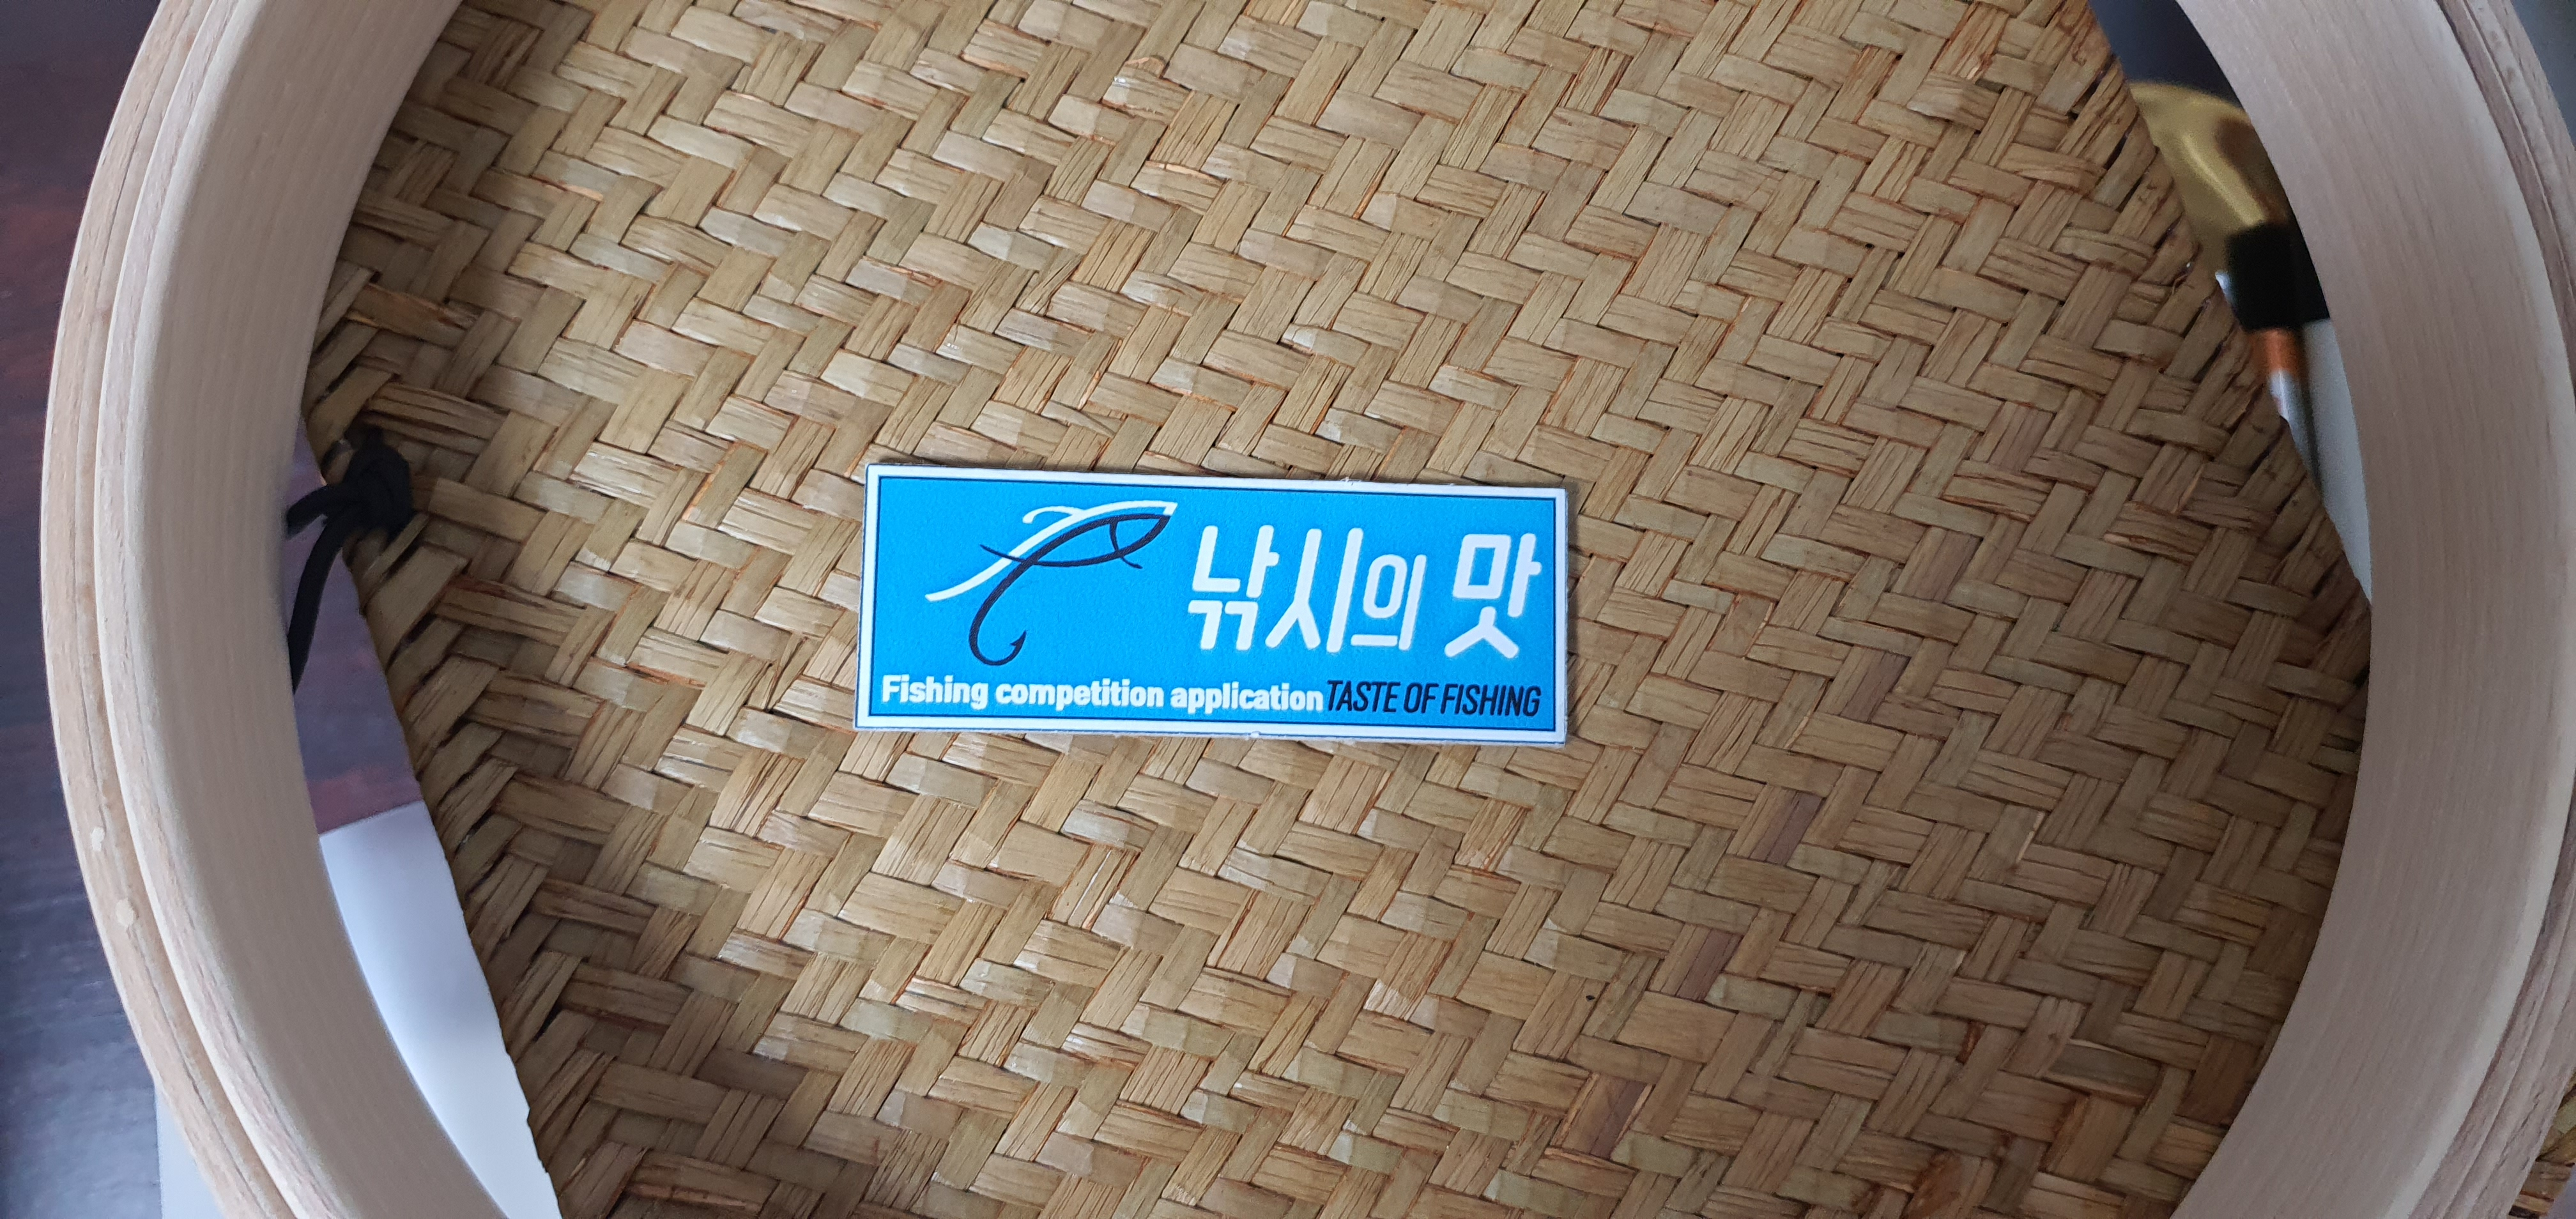tag: (858, 471, 1567, 752)
